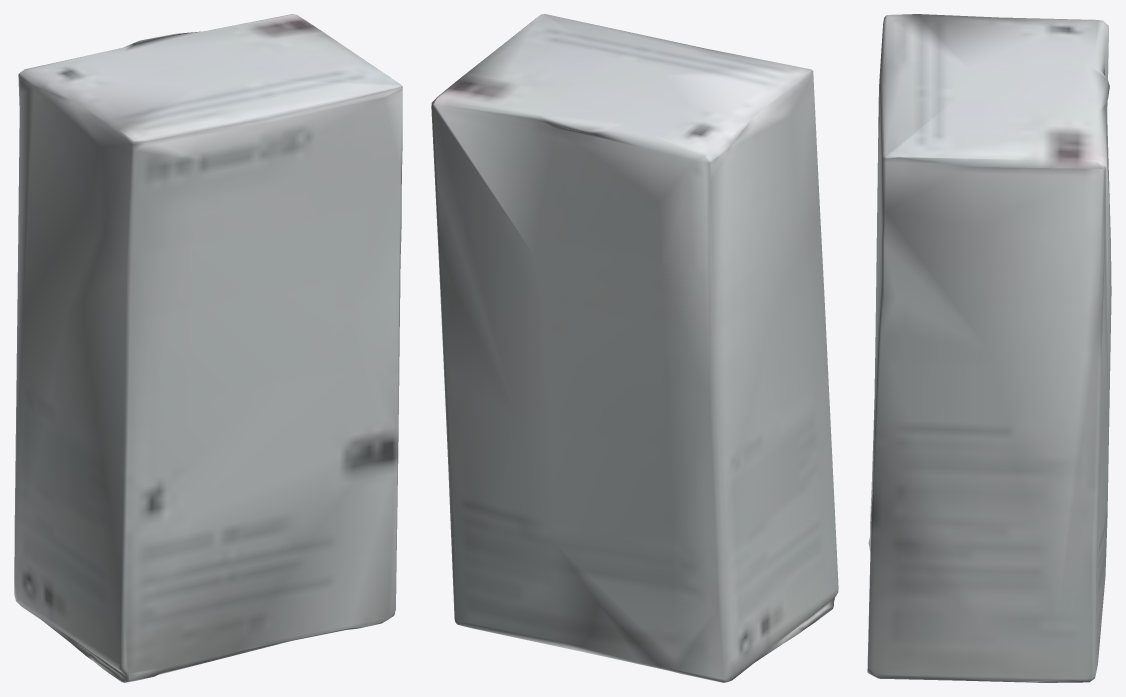
The model's file is Perricone_MD_Nutritive_Cleanser-medium.glb.
The picture shows the model from 3 angles, left to right: view 1: azimuth 30°, elevation 25°; view 2: azimuth 150°, elevation 25°; view 3: azimuth 270°, elevation 25°; orthographic projection.
Parts seen in each view (by area): view 1: Perricone_MD_Nutritive_Cleanser; view 2: Perricone_MD_Nutritive_Cleanser; view 3: Perricone_MD_Nutritive_Cleanser.
Part boxes in pixels (x1,y1,x2,y2): Perricone_MD_Nutritive_Cleanser: [14, 14, 402, 682]; Perricone_MD_Nutritive_Cleanser: [431, 14, 838, 682]; Perricone_MD_Nutritive_Cleanser: [867, 14, 1111, 682].
Bounding box in the file's own units: 0.0837 × 0.1485 × 0.0603.
Materials: 1 (1 with a texture image).
